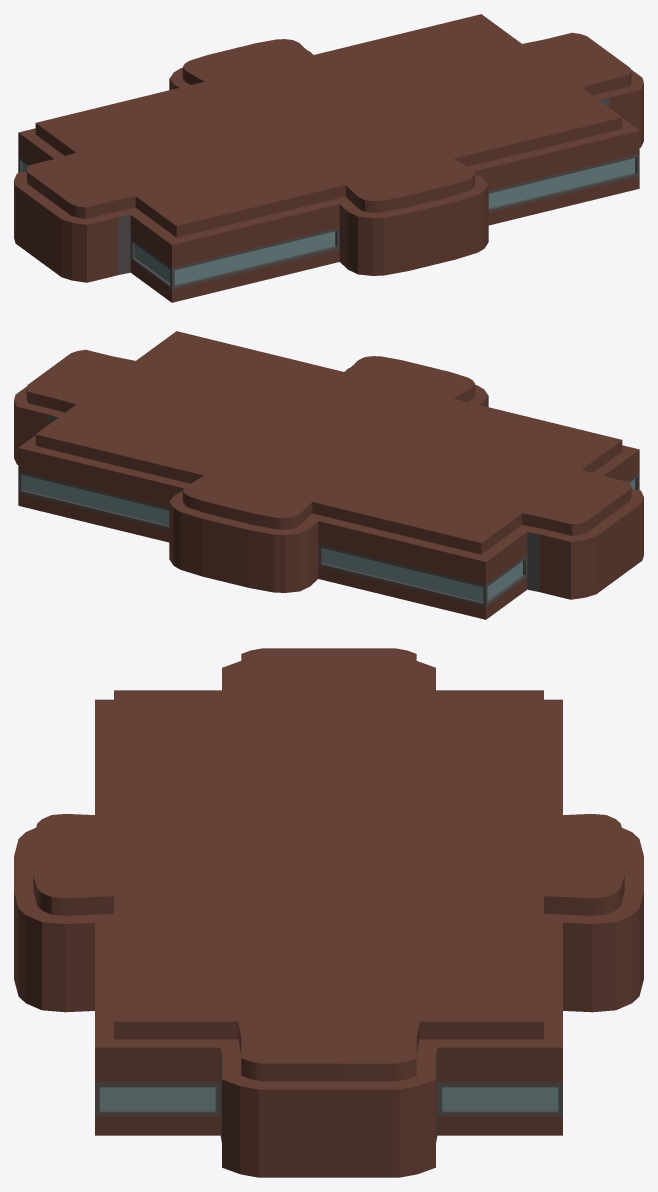
The model's file is Building_Long_Top.fbx.
3 views of the same model, one above another, from view 1: azimuth 30°, elevation 25°; view 2: azimuth 150°, elevation 25°; view 3: azimuth 270°, elevation 25° (orthographic). The views are drawn at different scales.
Parts seen in each view (by area): view 1: Long_Top; view 2: Long_Top; view 3: Long_Top.
Part boxes in pixels (x1,y1,x2,y2): Long_Top: (14,14,643,302); Long_Top: (14,331,643,619); Long_Top: (14,648,643,1177).
Size of the model in its own units: 5253 by 600 by 3239.
